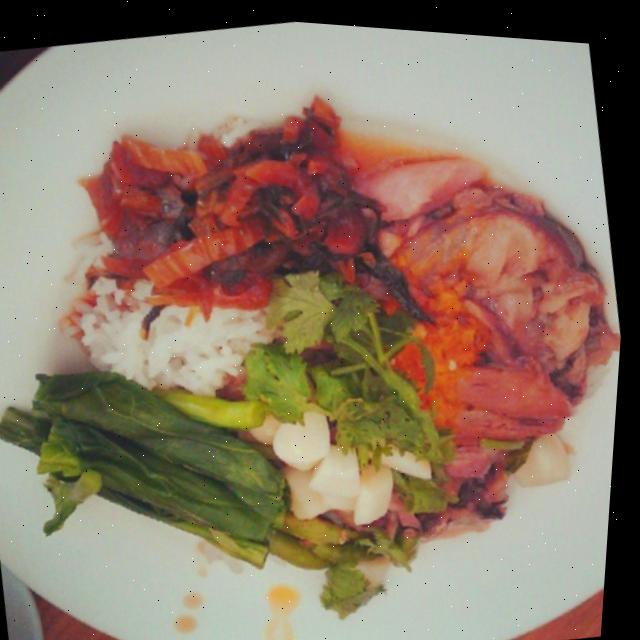猪肉菜式: (0, 18, 639, 640)
